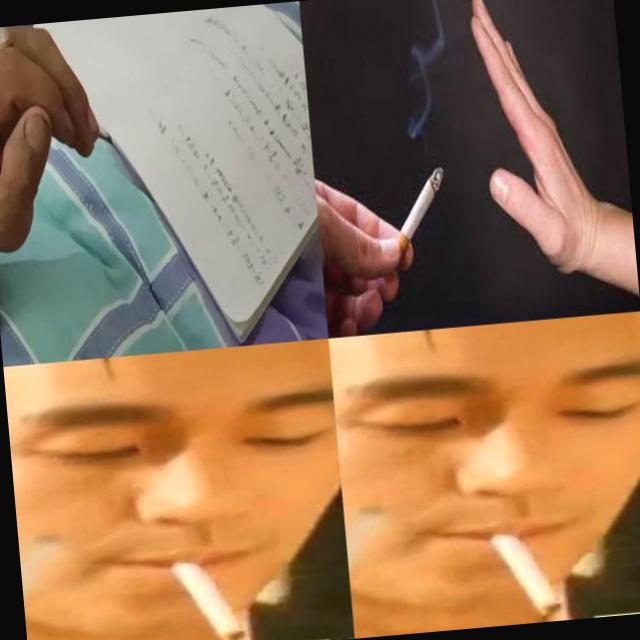smoke: (312, 165, 457, 336), (475, 514, 562, 622), (155, 542, 245, 640), (0, 25, 17, 74)
